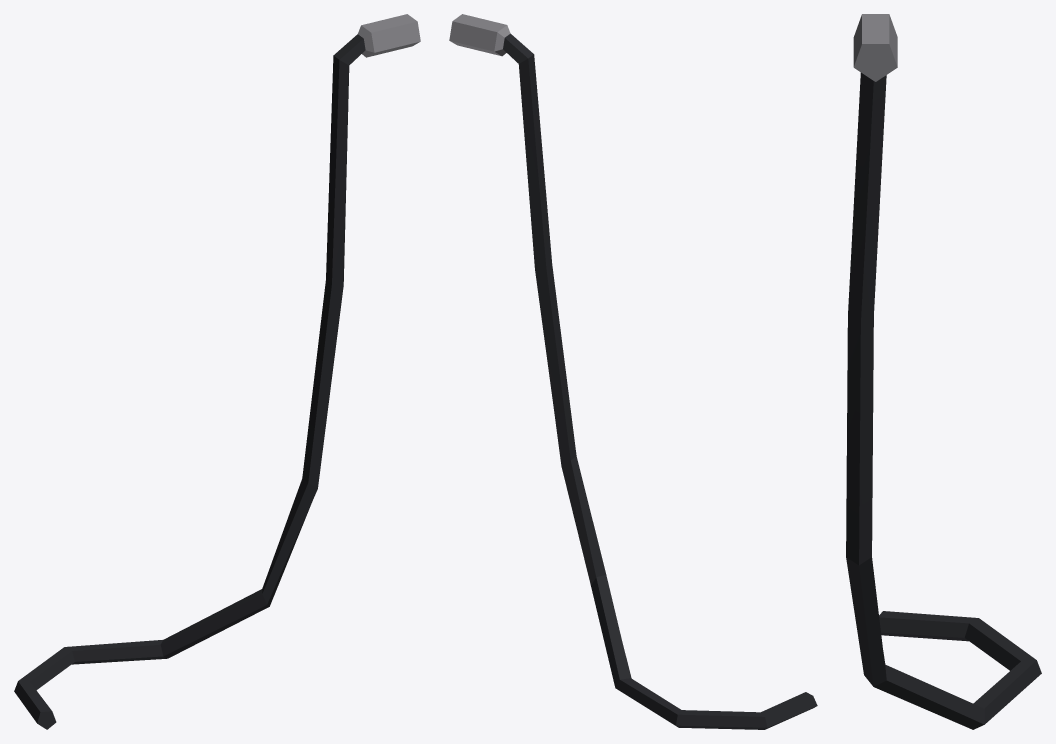
File: worlds_SM_Prop_Tether_Wire_Broken_02.gltf
3 renders of one model, left to right at view 1: azimuth 30°, elevation 25°; view 2: azimuth 150°, elevation 25°; view 3: azimuth 270°, elevation 25°, orthographic. The views are drawn at different scales.
Parts seen in each view (by area): view 1: SM_Prop_Tether_Wire_Broken_02; view 2: SM_Prop_Tether_Wire_Broken_02; view 3: SM_Prop_Tether_Wire_Broken_02.
Part boxes in pixels (bbox=[...]): SM_Prop_Tether_Wire_Broken_02: bbox=[14, 14, 420, 729]; SM_Prop_Tether_Wire_Broken_02: bbox=[449, 14, 817, 729]; SM_Prop_Tether_Wire_Broken_02: bbox=[846, 14, 1041, 729].
Size of the model in its own units: 1.26 by 2 by 0.4296.
1 material, 1 textured.
